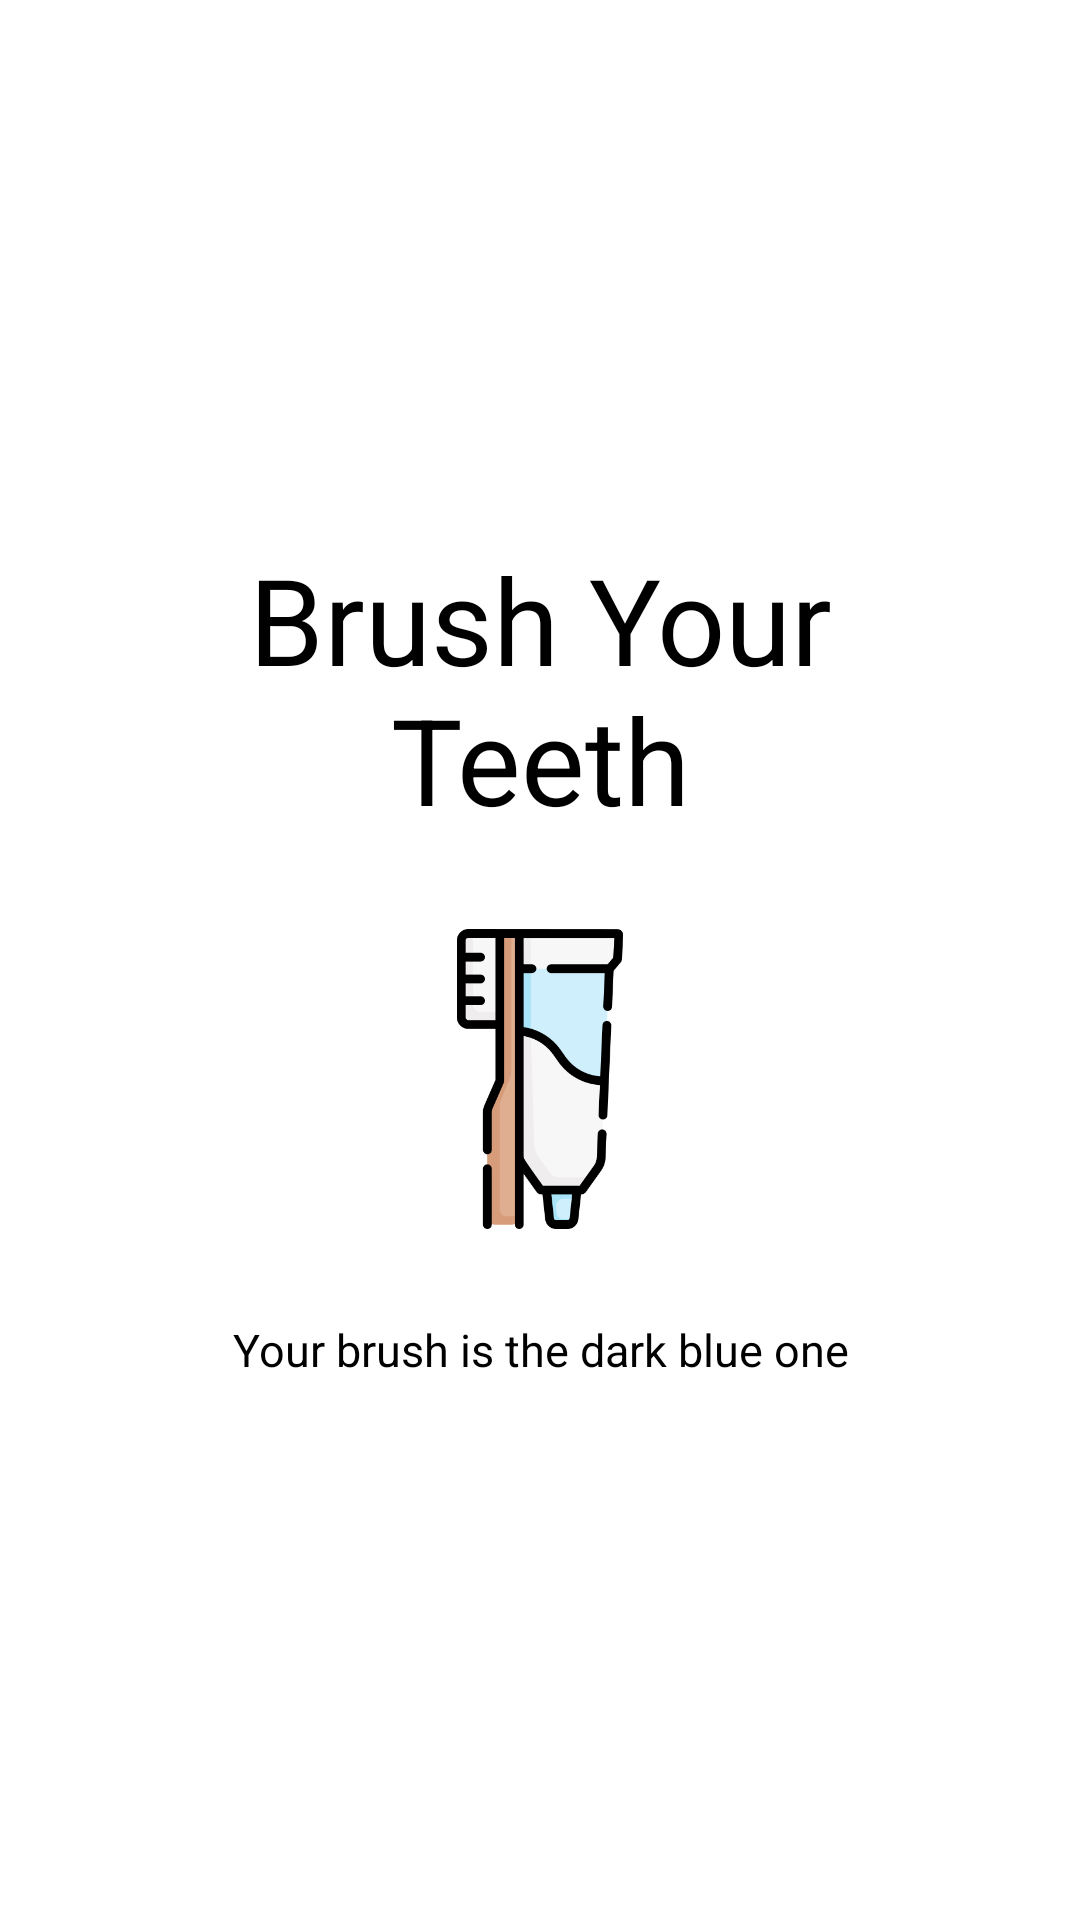

Screen size 1080w x 1920h. Icon name, then its box in pixels as (x1, y1, x2, y2):
toothbrush: (457, 929, 623, 1229)
